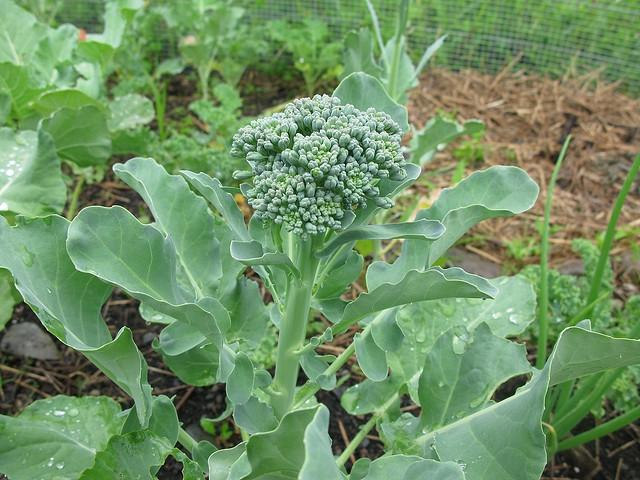broccoli: (228, 95, 408, 246)
